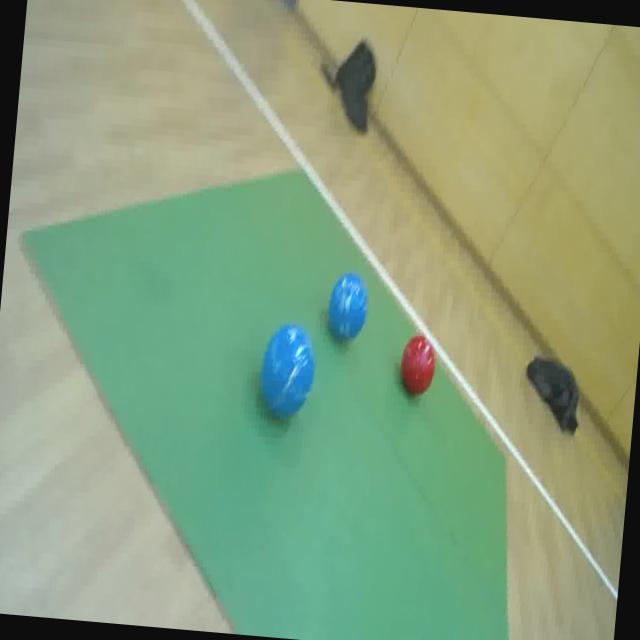blue_ball: (256, 317, 318, 421), (322, 270, 372, 348)
red_ball: (395, 331, 439, 402)
